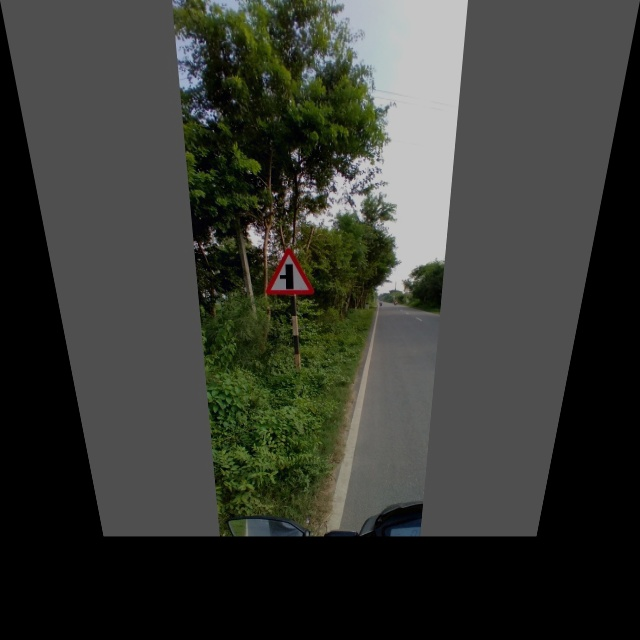Side_Road_Left: (260, 245, 319, 301)
